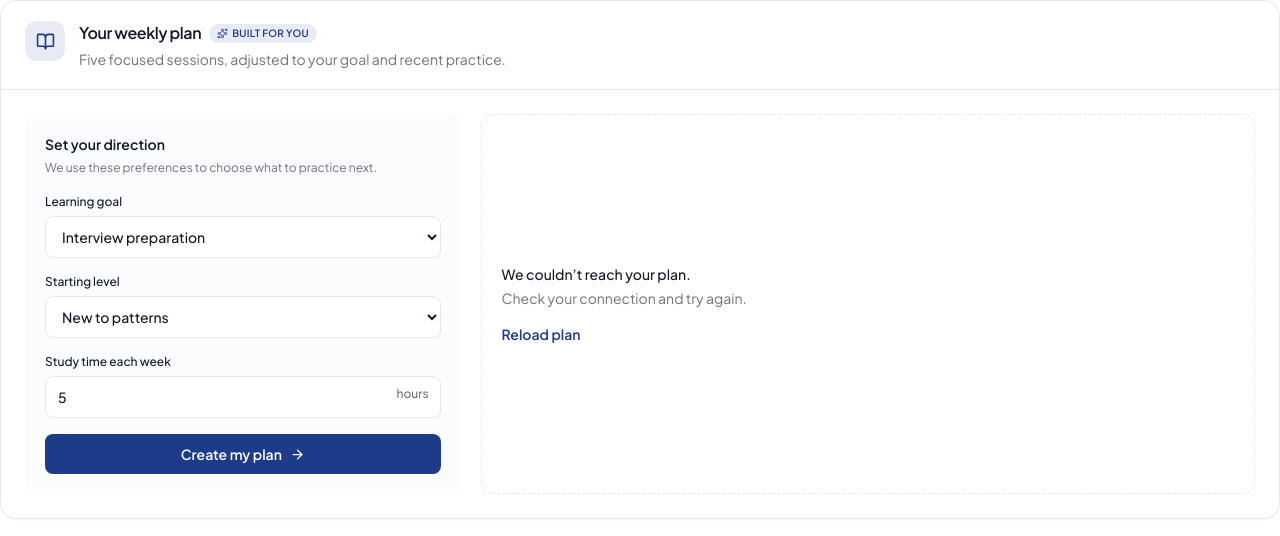
it: LearningPlanCard › shows a retry action when the plan cannot be loaded
Expected: the message shows "We couldn’t reach your plan.", [502,265,691,283]
Click the button "Reload plan" at (541, 334), box [502,324,580,344]
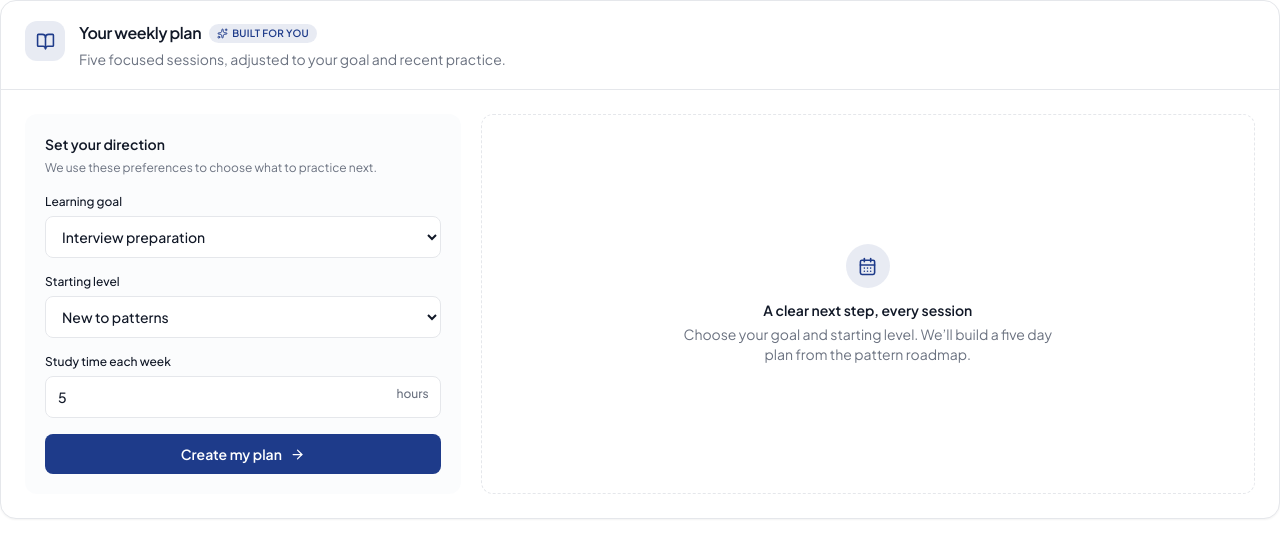
Result: the heading "A clear next step, every session" is shown at [763,300,972,320]
